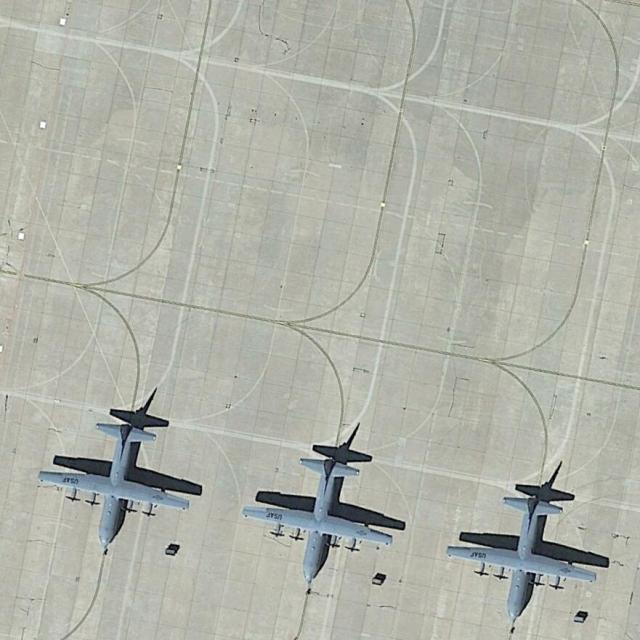fighter jet: (238, 442, 400, 578), (32, 413, 198, 544), (446, 490, 603, 624)
